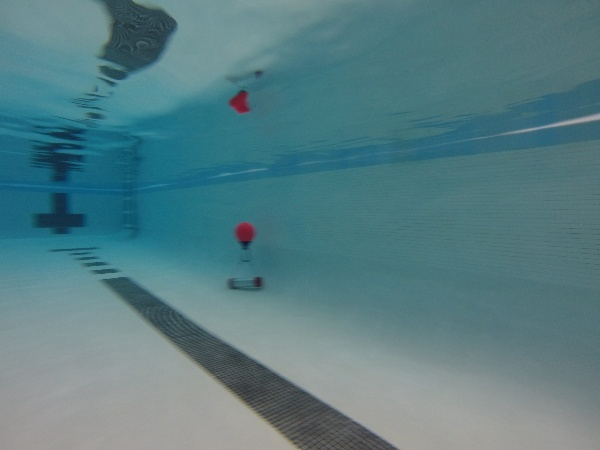buoy_red: (233, 220, 256, 252)
